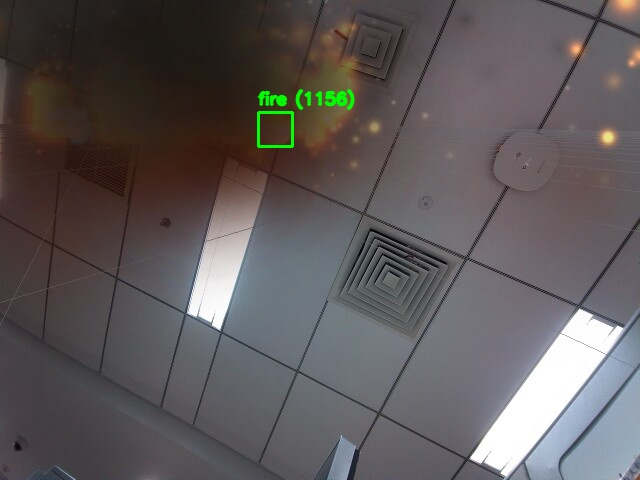fire: (258, 112, 292, 146)
